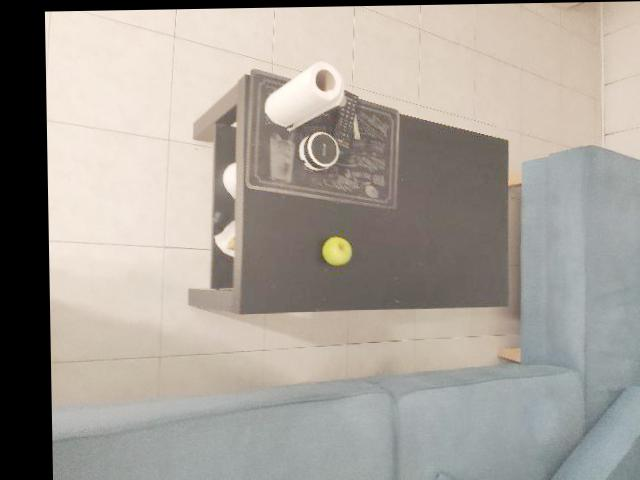apple: (397, 63, 462, 165)
